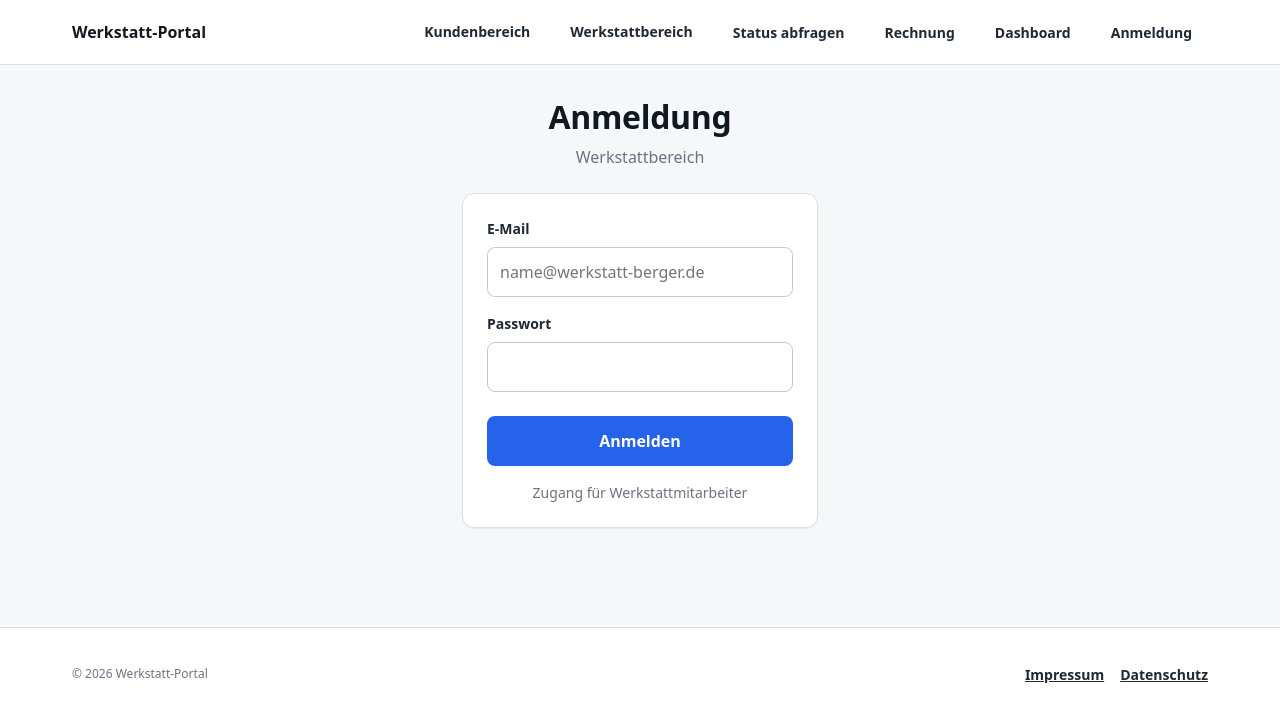
Test case: ShopLogin › shows exactly one generic alert on a 401 without revealing the wrong part
In the field labelled "E-Mail": (640, 272) [487,247,793,297], type "anna@werkstatt-berger.de"
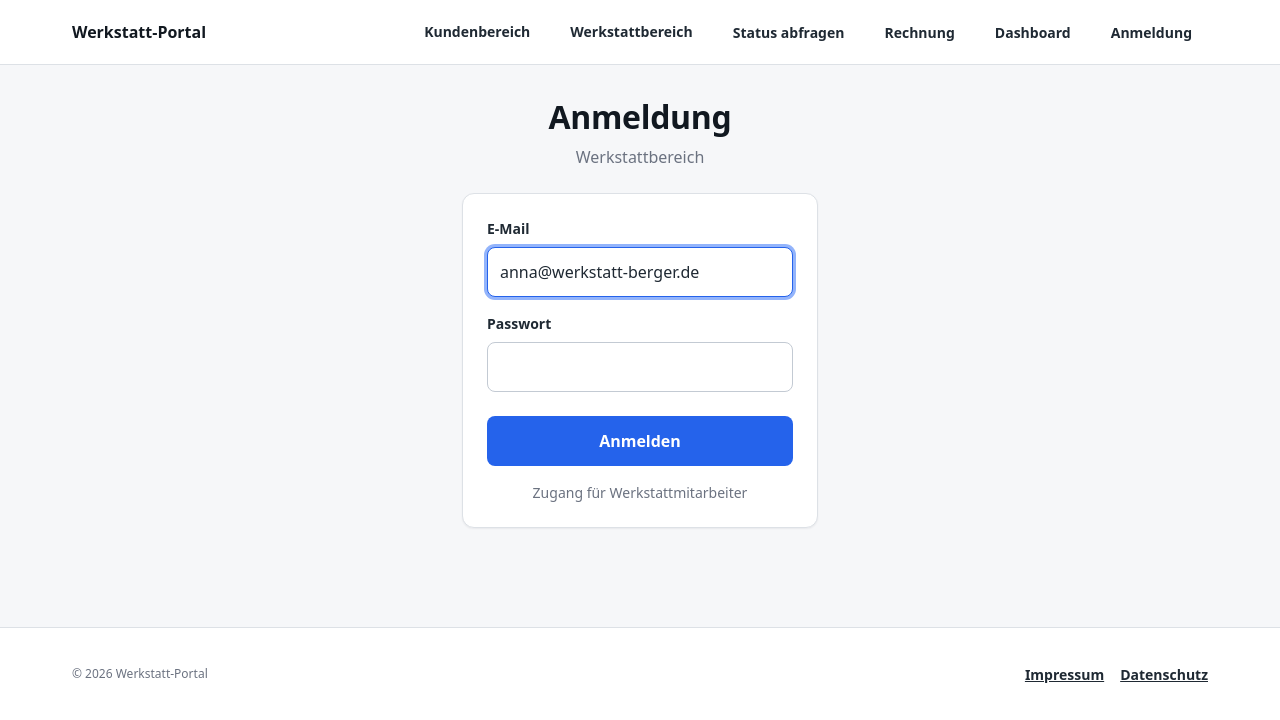
In the password field labelled "Passwort": (640, 367) [487,342,793,392], type "falsch"
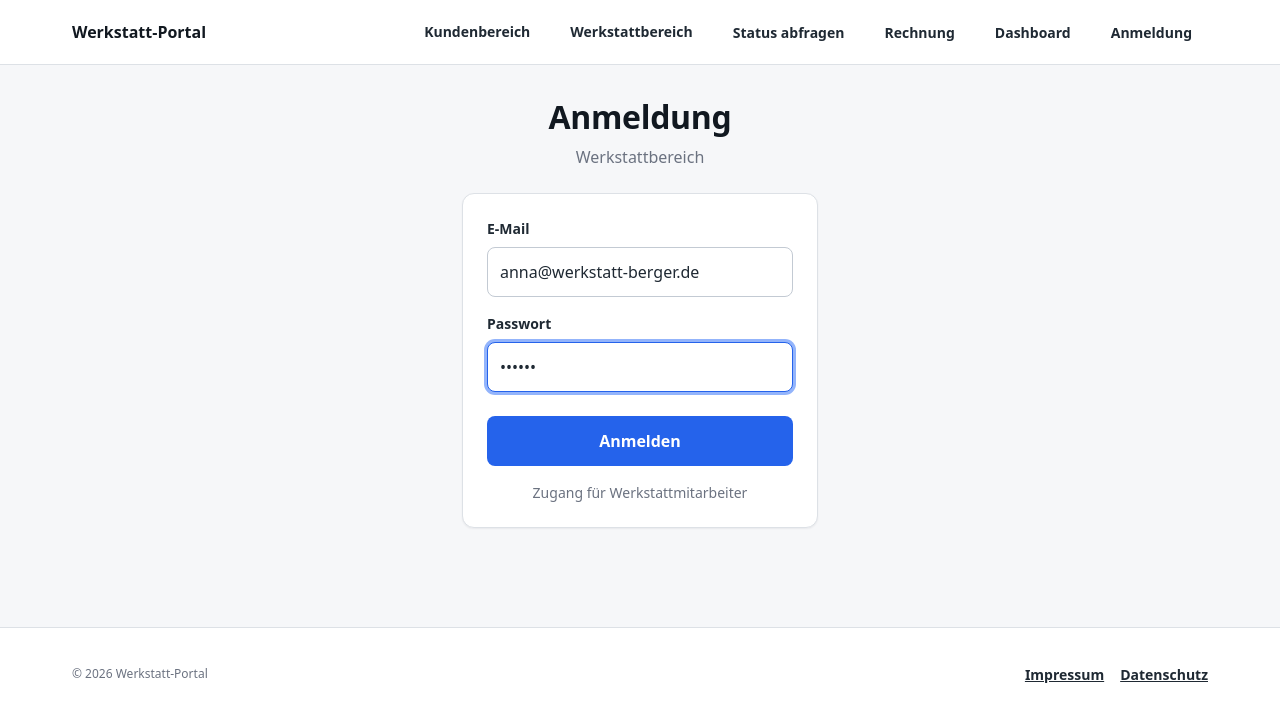
Click the button "Anmelden": (640, 441) [487,416,793,466]
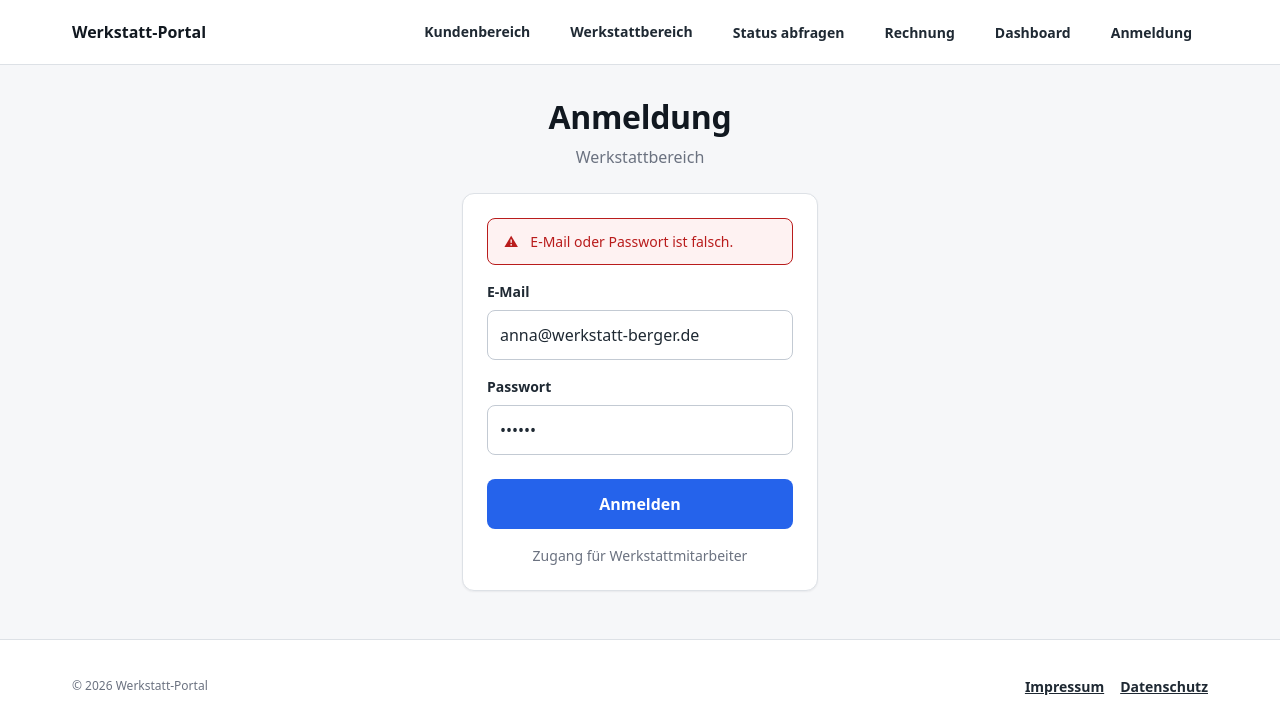
Expected: the heading "Anmeldung" is shown, [548,95,731,138]
Expected: the message shows "E-Mail oder Passwort ist falsch.", [530,232,733,251]
Expected: the number of messages is 1, [487,218,793,265]
